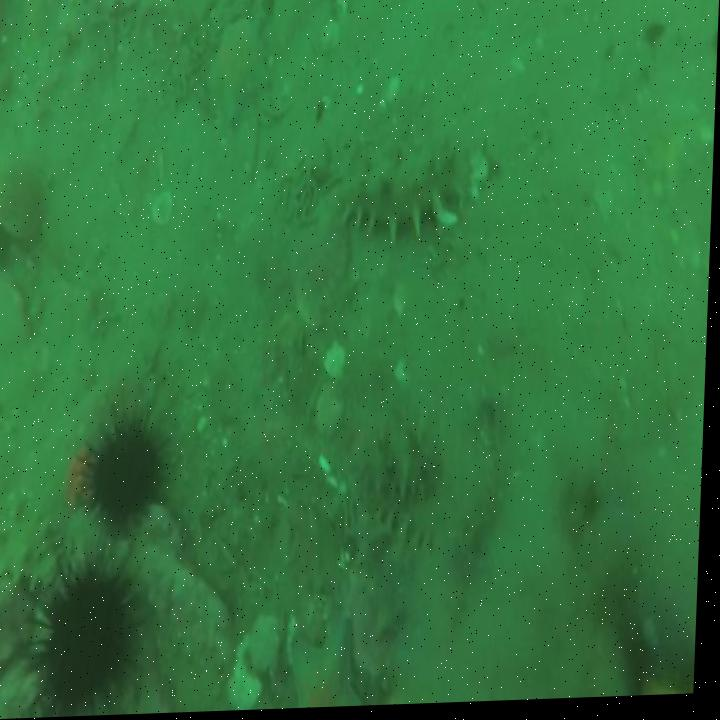echinus: (49, 571, 135, 707), (94, 429, 164, 521)
holothurian: (340, 143, 461, 240), (459, 410, 511, 564), (348, 511, 434, 597), (352, 424, 436, 500)
starfish: (291, 618, 367, 711), (202, 24, 271, 118)
